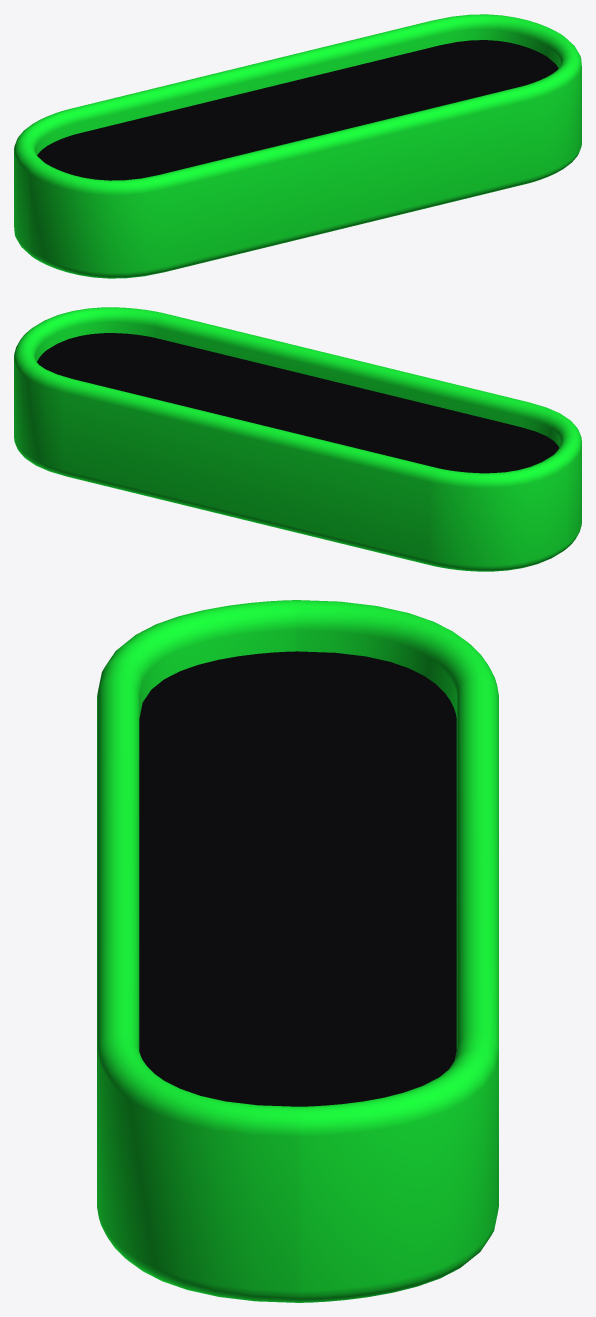
File: Paddle-14.dae
3 views of the same model, one above another, from view 1: azimuth 30°, elevation 25°; view 2: azimuth 150°, elevation 25°; view 3: azimuth 270°, elevation 25° (orthographic). The views are drawn at different scales.
Visible parts, largest first — view 1: Paddle; view 2: Paddle; view 3: Paddle.
Part boxes in pixels (bbox=[...]): Paddle: bbox=[14, 14, 581, 278]; Paddle: bbox=[14, 307, 581, 571]; Paddle: bbox=[97, 600, 498, 1302].
Size of the model in its own units: 0.303 by 0.0519 by 0.0982.
